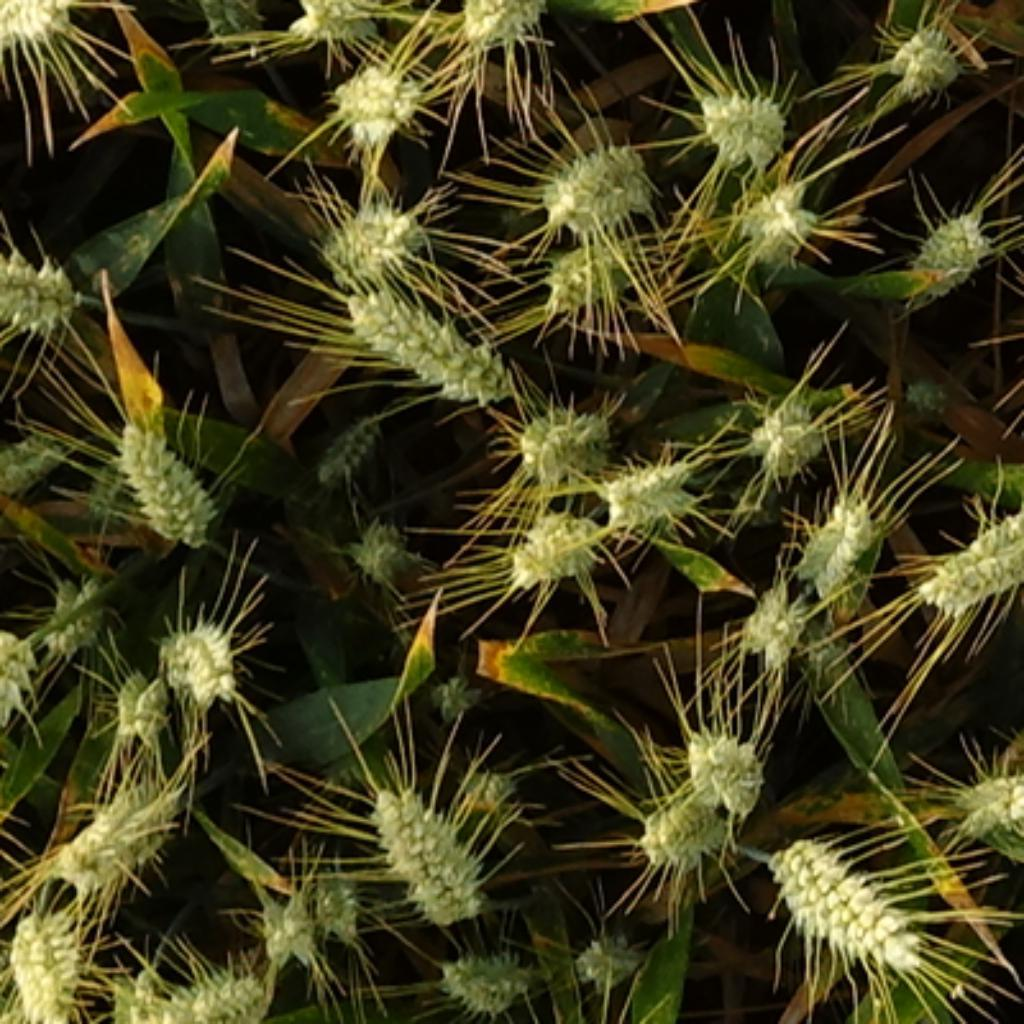0-0: (755, 811, 936, 977), (327, 268, 514, 401), (364, 769, 502, 928), (43, 760, 189, 893), (102, 401, 232, 545), (532, 120, 663, 232), (913, 491, 1024, 614), (309, 181, 430, 279), (0, 903, 86, 1024), (791, 481, 888, 588), (673, 711, 773, 808), (688, 69, 793, 161), (499, 496, 609, 583), (148, 606, 245, 704), (506, 396, 614, 483), (632, 770, 734, 862), (322, 48, 424, 138), (739, 381, 837, 471), (540, 225, 642, 309), (901, 194, 995, 284), (144, 964, 284, 1024), (727, 168, 819, 258), (2, 238, 87, 335), (437, 931, 540, 1011), (599, 445, 698, 522), (875, 7, 964, 92), (2, 419, 87, 506), (734, 570, 814, 657), (40, 560, 117, 650), (248, 890, 335, 965), (312, 399, 391, 481), (345, 506, 427, 583), (950, 757, 1024, 842), (299, 860, 358, 962), (107, 657, 176, 739), (568, 916, 647, 985), (450, 0, 552, 40), (458, 765, 529, 819), (289, 0, 386, 38), (2, 619, 38, 719), (422, 660, 486, 714), (0, 0, 76, 45), (896, 363, 962, 414), (186, 0, 261, 38)
